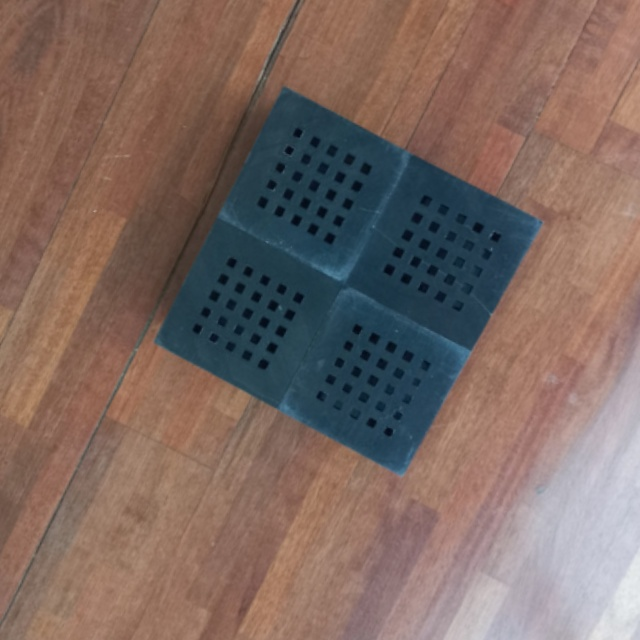pallet: (147, 70, 553, 493)
